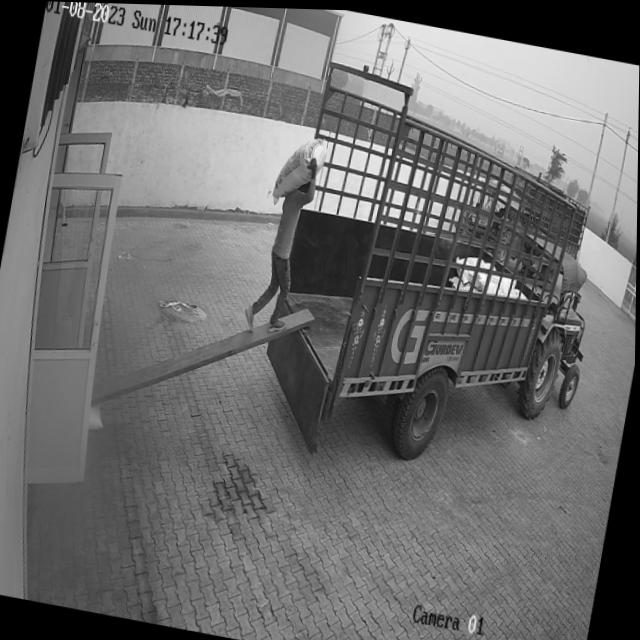sack: (271, 128, 328, 213)
